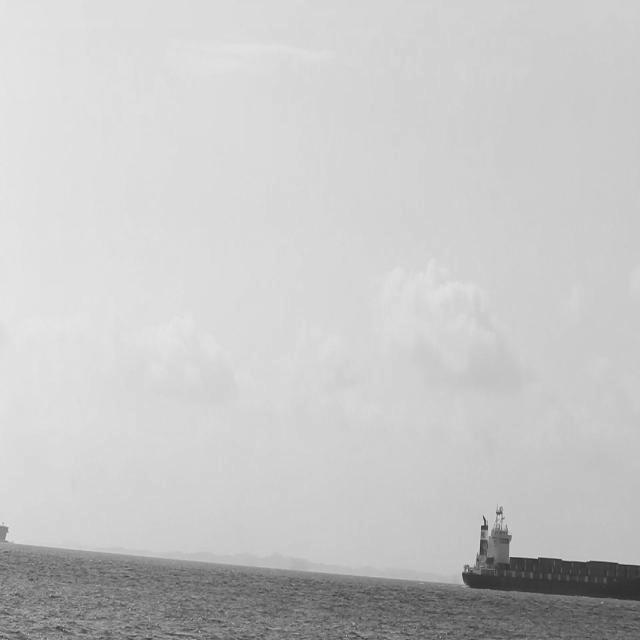ship: (454, 511, 639, 600)
